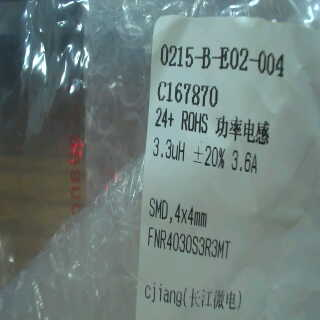3.3uH: (146, 132, 187, 169)
